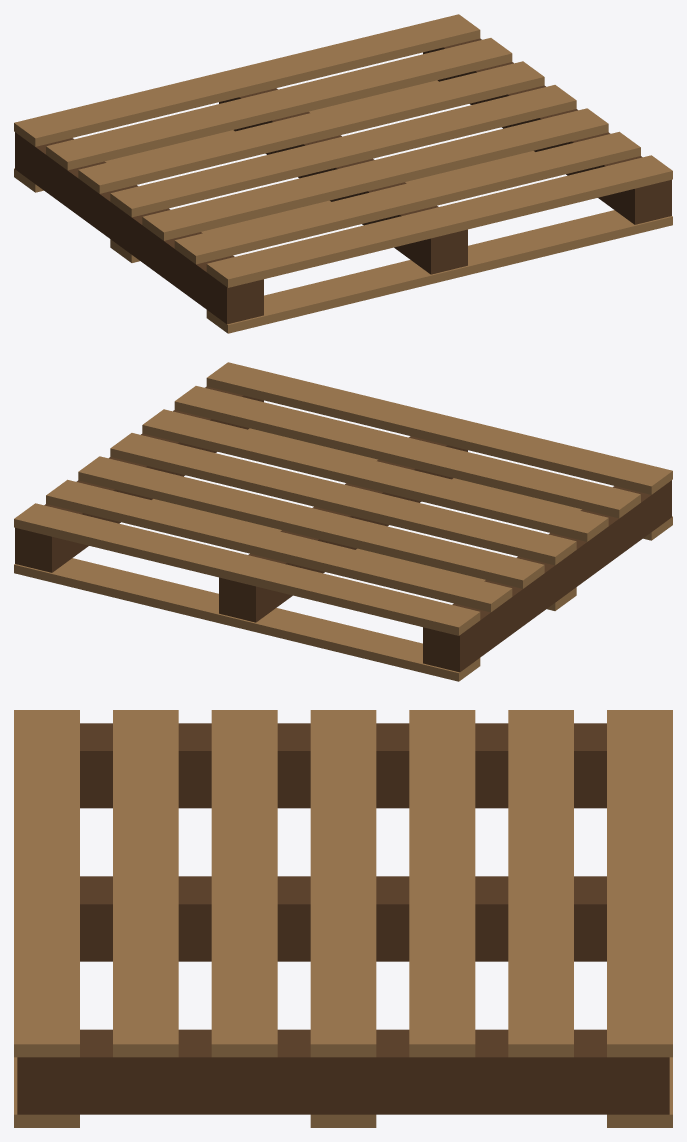
Rendered from pallet.glb.
3 views of the same model, one above another, from view 1: azimuth 30°, elevation 25°; view 2: azimuth 150°, elevation 25°; view 3: azimuth 270°, elevation 25° (orthographic). The views are drawn at different scales.
Parts seen in each view (by area): view 1: pallet_wood, wood_dark; view 2: pallet_wood, wood_dark; view 3: pallet_wood, wood_dark.
Boxes of the visible parts, <box> form: pallet_wood: <box>14,14,672,333</box>; wood_dark: <box>15,38,671,324</box>; pallet_wood: <box>14,362,672,681</box>; wood_dark: <box>15,386,671,672</box>; pallet_wood: <box>14,710,672,1127</box>; wood_dark: <box>17,723,669,1114</box>.
Size of the model in its own units: 1.2 by 0.14 by 1.
